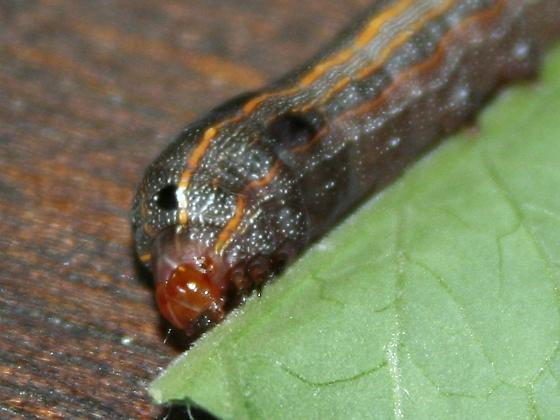Armyworm: (123, 1, 489, 360)
